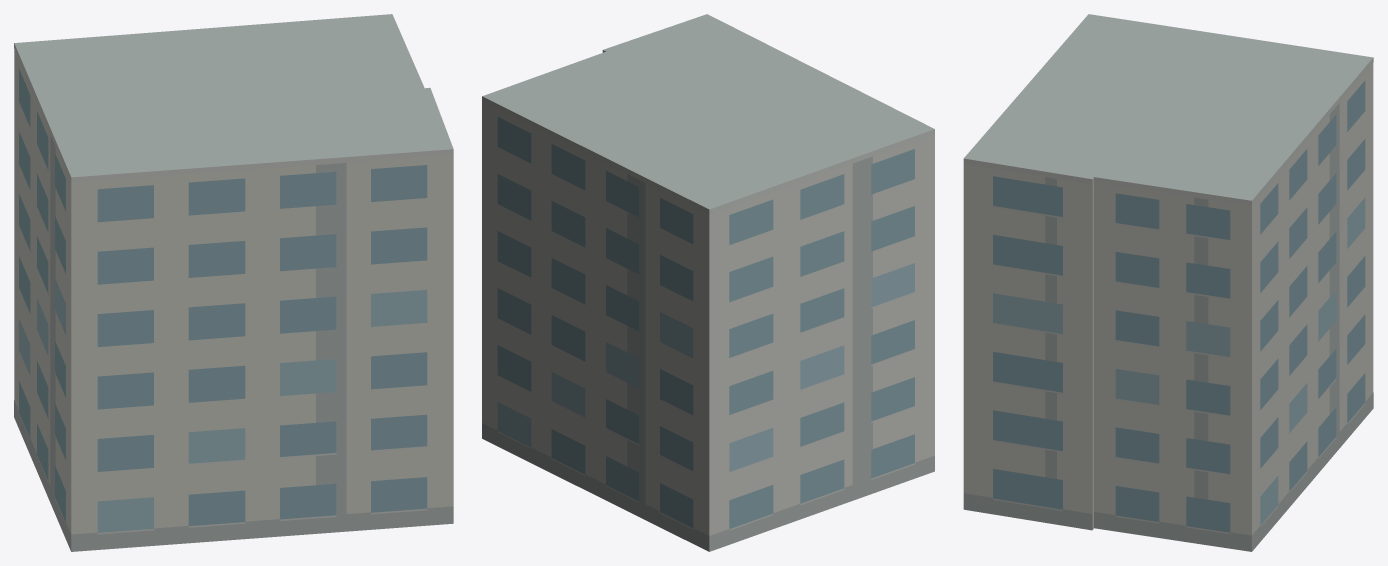
Rendered from survey-upis-32524991.glb.
3 renders of one model, left to right at view 1: azimuth 30°, elevation 25°; view 2: azimuth 150°, elevation 25°; view 3: azimuth 270°, elevation 25°, orthographic. The views are drawn at different scales.
Parts seen in each view (by area): view 1: survey-upis-32524991.tmp; view 2: survey-upis-32524991.tmp; view 3: survey-upis-32524991.tmp.
Part boxes in pixels (box(x1,y1,x2,y2)): survey-upis-32524991.tmp: box(14, 14, 453, 551); survey-upis-32524991.tmp: box(482, 14, 934, 551); survey-upis-32524991.tmp: box(963, 14, 1373, 551).
Size of the model in its own units: 18.03 by 15.8 by 16.72.
